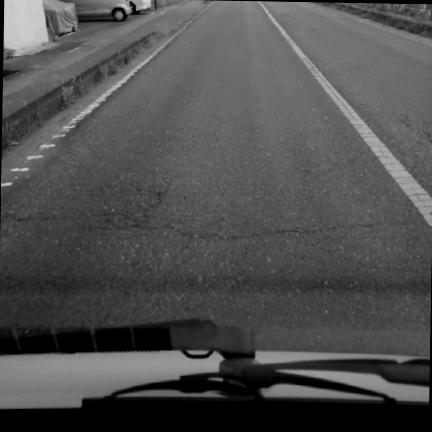Road: (0, 0, 431, 354)
